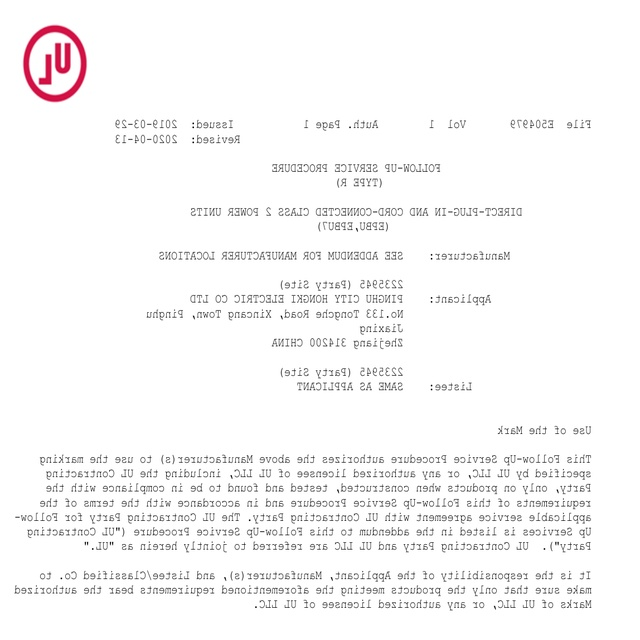ul: (23, 26, 87, 101)
